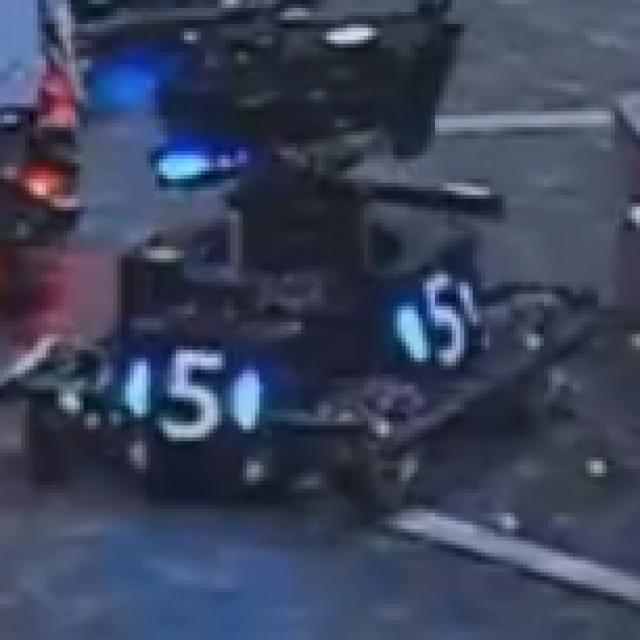B5: (130, 342, 255, 441), (402, 278, 485, 366)
